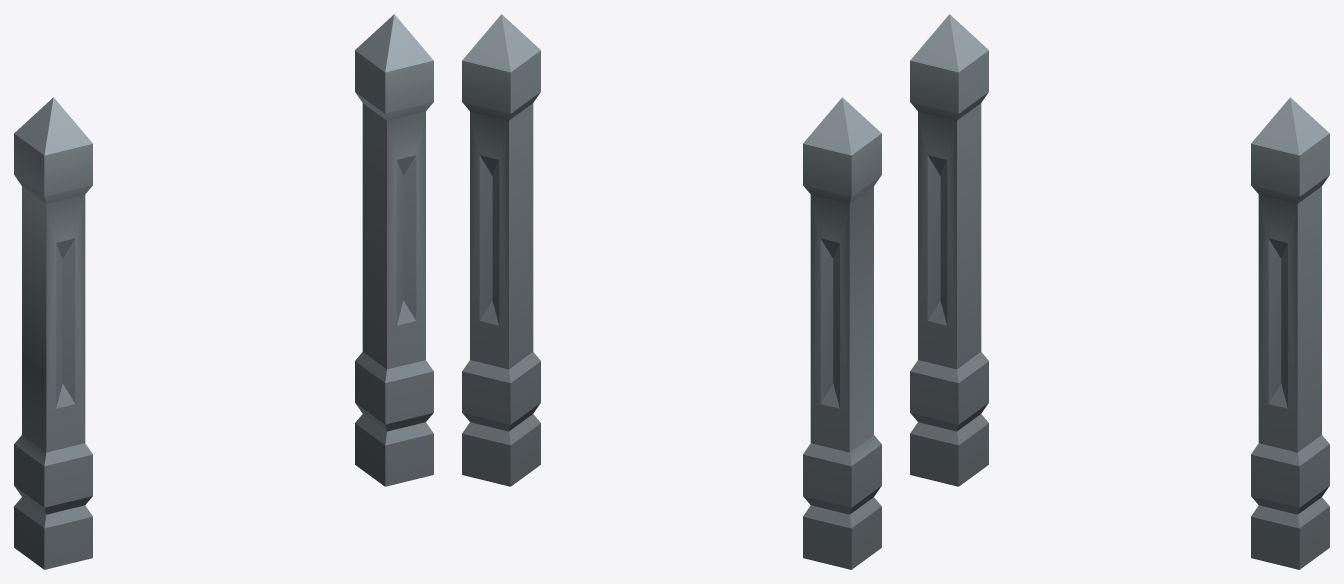
Rendered from fence_gate_lev1.glb.
3 views of the same model, side by side, from view 1: azimuth 30°, elevation 25°; view 2: azimuth 150°, elevation 25°; view 3: azimuth 330°, elevation 25° (orthographic).
Visible parts, largest first — view 1: fence_gate_lev1; view 2: fence_gate_lev1; view 3: fence_gate_lev1.
Boxes of the visible parts, x1,y1,x2,y2 form: fence_gate_lev1: (14, 14, 433, 569); fence_gate_lev1: (462, 14, 881, 569); fence_gate_lev1: (910, 14, 1329, 569).
Bounding box in the file's own units: 11.13 × 12.45 × 1.5.
1 material, 1 textured.
